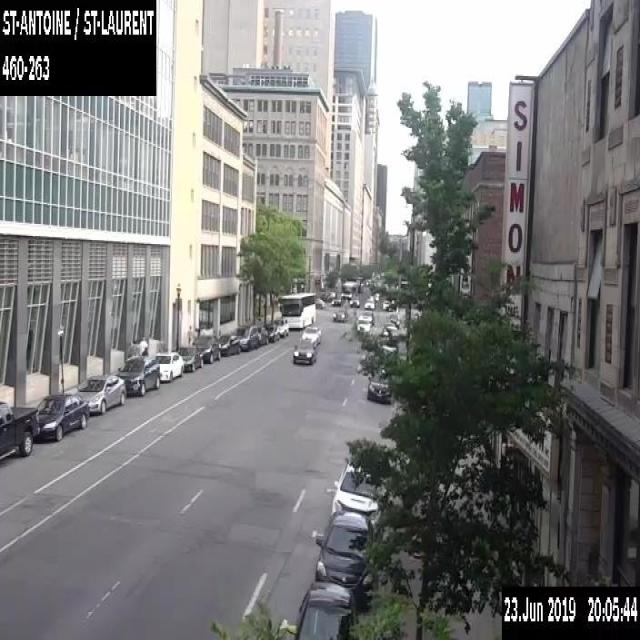bus: (280, 291, 316, 328), (341, 279, 356, 299)
pedestrian: (138, 335, 148, 353), (128, 338, 138, 354), (186, 324, 192, 345)
vehicle: (314, 510, 382, 608), (331, 458, 389, 529), (292, 582, 360, 638), (36, 393, 90, 439), (0, 399, 37, 459), (73, 373, 126, 412), (115, 354, 160, 395), (153, 350, 183, 380), (366, 370, 394, 402), (193, 334, 220, 362), (176, 346, 202, 372), (234, 323, 258, 349), (292, 338, 316, 364), (216, 333, 240, 354), (301, 325, 321, 347), (263, 322, 279, 342), (272, 317, 288, 337), (356, 314, 371, 331), (256, 324, 268, 344), (382, 336, 396, 353), (382, 321, 397, 336), (385, 313, 400, 328), (332, 307, 348, 321), (360, 310, 374, 324), (381, 299, 392, 311), (315, 296, 325, 308), (364, 297, 374, 307), (349, 296, 359, 306), (369, 291, 379, 300), (332, 294, 341, 304)
